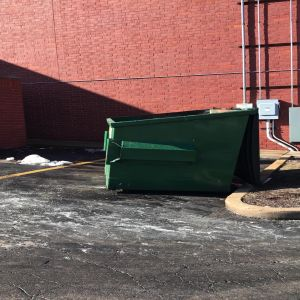Dumpster: (98, 107, 267, 196)
